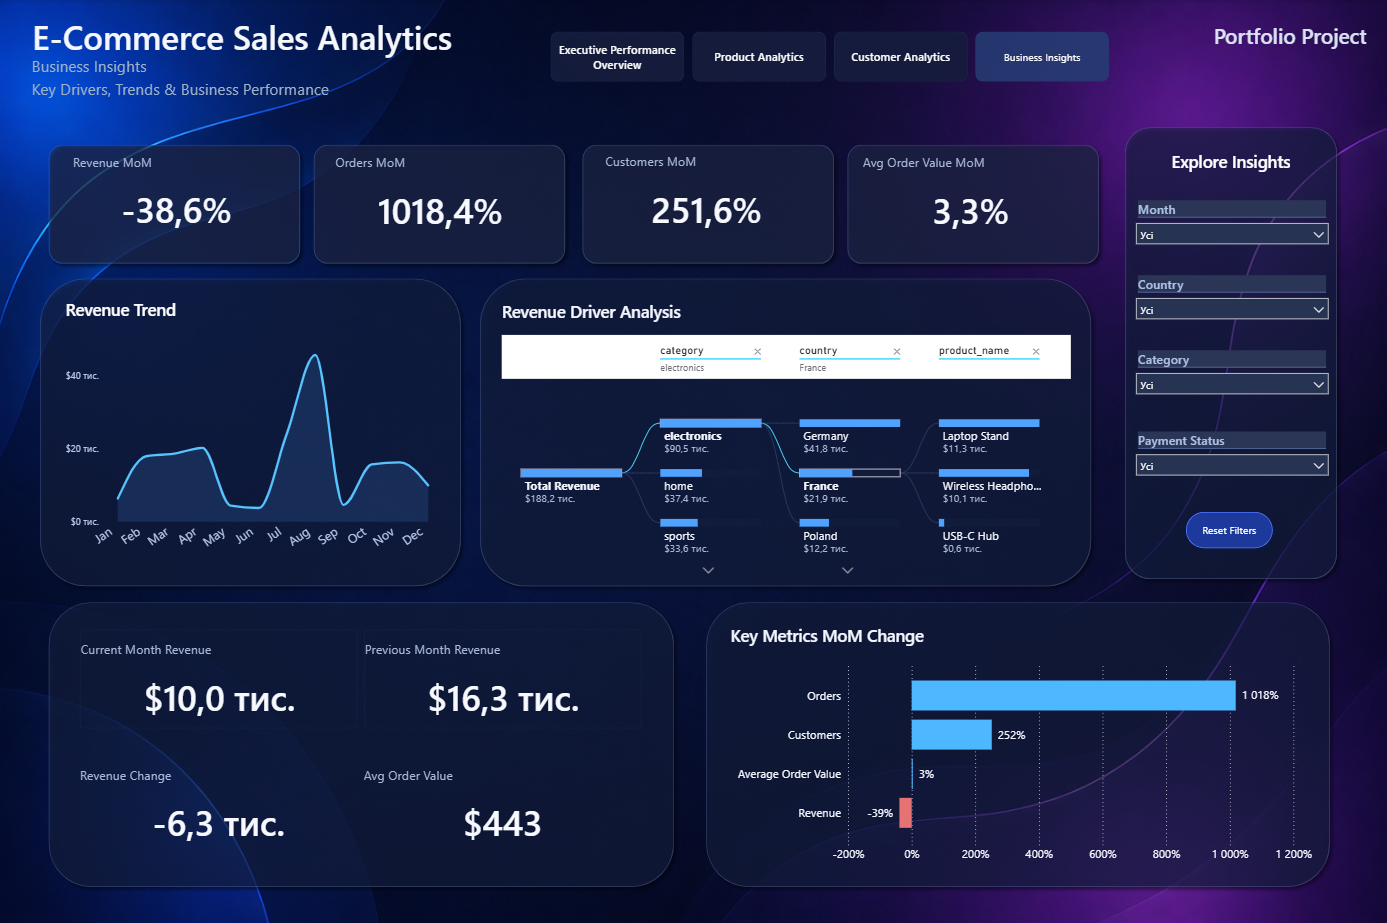

The dashboard page shown, as its layout file describes it:
{"tool":"powerbi","page":{"name":"Business Insights","canvas":[1800,1200],"ordinal":3},"visuals":[{"type":"shape","box":[21.7,10,946,76],"z":0},{"type":"shape","box":[745.2,180,342.9,171.7],"z":0,"group":"g1"},{"type":"shape","box":[56,770,826,386],"z":0,"group":"g2"},{"type":"shape","box":[906,770,824,386],"z":0,"group":"g7"},{"type":"shape","box":[21.7,56.7,323.3,60],"z":1000},{"type":"shape","box":[398.6,180,342.9,171.7],"z":1000,"group":"g1"},{"type":"shape","box":[1493.3,23.3,278.3,50],"z":2000},{"type":"shape","box":[1448,156,292,602],"z":2000,"group":"g3"},{"type":"group","id":"g1","title":"Група 1","box":[56,180,1374,172],"z":2000,"group":"g4"},{"type":"shape","box":[56,180,342.9,171.7],"z":2000,"group":"g1"},{"type":"shape","box":[46,352,561.9,415.8],"z":2000,"group":"g5"},{"type":"shape","box":[1087.8,180,342.9,171.7],"z":3000,"group":"g1"},{"type":"shape","box":[614,352,808,416],"z":3000,"group":"g6"},{"type":"group","id":"g2","title":"Група 9","box":[56,770,826,386],"z":3000},{"type":"group","id":"g3","title":"Група 2","box":[1448,156,292,602],"z":4000},{"type":"cardVisual","fields":{"Data":["_Measures.Revenue MoM %"]},"box":[67.3,184.8,326.3,132.5],"z":4000,"group":"g4"},{"type":"shape","box":[21.2,86.2,515.3,59.8],"z":5000},{"type":"group","id":"g4","title":"Група 3","box":[56,180,1374,172],"z":6000},{"type":"lineChart","title":"Revenue Trend","fields":{"Y":["_Measures.Total Revenue"],"Category":["Calendar.Month"]},"box":[83.8,385.3,493.3,345.6],"z":6000,"group":"g5"},{"type":"group","id":"g5","title":"Група 5","box":[46,352,561.9,415.8],"z":7000},{"type":"group","id":"g6","title":"Група 4","box":[614,352,808,416],"z":8000},{"type":"cardVisual","fields":{"Data":["_Measures.Business Insights Revenue","_Measures.Business Insights Previous Month Revenue"]},"box":[88.6,798.6,761.4,162.9],"z":9000},{"type":"slicer","fields":{"Values":["Calendar.Month"]},"box":[1460.5,253.8,269.1,83.3],"z":10000,"group":"g3"},{"type":"decompositionTreeVisual","title":"Revenue Driver Analysis","fields":{"Analyze":["_Measures.Total Revenue"],"ExplainBy":["products.category","customers.country","products.product_name"]},"box":[646.2,388.7,745.6,368.9],"z":10000,"group":"g6"},{"type":"cardVisual","fields":{"Data":["_Measures.Business Insights Revenue Change","_Measures.Average Order Value"]},"box":[88.6,961.4,761.4,162.9],"z":10000},{"type":"slicer","fields":{"Values":["customers.country"]},"box":[1460.5,352.1,269.1,86.3],"z":11000,"group":"g3"},{"type":"group","id":"g7","title":"Група 9","box":[906,770,824,386],"z":11000},{"type":"clusteredBarChart","title":"Key Metrics MoM Change","fields":{"Category":["Business Drivers.Driver"],"Y":["Business Drivers.Business Driver MoM %"]},"box":[941,806.7,761.7,318.3],"z":11001,"group":"g7"},{"type":"pageNavigator","box":[714,42,725.7,65.7],"z":12000},{"type":"cardVisual","fields":{"Data":["_Measures.Average Order Value MoM %"]},"box":[1088,185,337,133],"z":12000,"group":"g4"},{"type":"cardVisual","fields":{"Data":["_Measures.Orders MoM %"]},"box":[406,185,329,133],"z":13000,"group":"g4"},{"type":"slicer","fields":{"Values":["products.category"]},"box":[1460.5,448.5,269.1,84.3],"z":13000,"group":"g3"},{"type":"cardVisual","fields":{"Data":["_Measures.Customers MoM %"]},"box":[756,185,320,131],"z":15000,"group":"g4"},{"type":"slicer","fields":{"Values":["orders.payment_status"]},"box":[1460.5,552.8,269.1,84.3],"z":16000,"group":"g3"},{"type":"actionButton","box":[1529.2,655.4,126.2,60.9],"z":19000,"group":"g3"}]}

Visuals, with their boxes in screenshot pixels (x1, y1, x2, y2), scaled from the page's 1800x1200 canvas onto the 1387x923 screenshot:
shape: bbox=[17, 8, 746, 66]
shape: bbox=[574, 138, 838, 271]
shape: bbox=[43, 592, 680, 889]
shape: bbox=[698, 592, 1333, 889]
shape: bbox=[17, 44, 266, 90]
shape: bbox=[307, 138, 571, 271]
shape: bbox=[1151, 18, 1365, 56]
shape: bbox=[1116, 120, 1341, 583]
"Група 1" group: bbox=[43, 138, 1102, 271]
shape: bbox=[43, 138, 307, 271]
shape: bbox=[35, 271, 468, 591]
shape: bbox=[838, 138, 1102, 271]
shape: bbox=[473, 271, 1096, 591]
"Група 9" group: bbox=[43, 592, 680, 889]
"Група 2" group: bbox=[1116, 120, 1341, 583]
cardVisual - _Measures.Revenue MoM %: bbox=[52, 142, 303, 244]
shape: bbox=[16, 66, 413, 112]
"Група 3" group: bbox=[43, 138, 1102, 271]
"Revenue Trend" lineChart: bbox=[65, 296, 445, 562]
"Група 5" group: bbox=[35, 271, 468, 591]
"Група 4" group: bbox=[473, 271, 1096, 591]
cardVisual - _Measures.Business Insights Revenue x _Measures.Business Insights Previous Month Revenue: bbox=[68, 614, 655, 740]
slicer - Calendar.Month: bbox=[1125, 195, 1333, 259]
"Revenue Driver Analysis" decompositionTreeVisual: bbox=[498, 299, 1072, 583]
cardVisual - _Measures.Business Insights Revenue Change x _Measures.Average Order Value: bbox=[68, 739, 655, 865]
slicer - customers.country: bbox=[1125, 271, 1333, 337]
"Група 9" group: bbox=[698, 592, 1333, 889]
"Key Metrics MoM Change" clusteredBarChart: bbox=[725, 620, 1312, 865]
pageNavigator: bbox=[550, 32, 1109, 83]
cardVisual - _Measures.Average Order Value MoM %: bbox=[838, 142, 1098, 245]
cardVisual - _Measures.Orders MoM %: bbox=[313, 142, 566, 245]
slicer - products.category: bbox=[1125, 345, 1333, 410]
cardVisual - _Measures.Customers MoM %: bbox=[583, 142, 829, 243]
slicer - orders.payment_status: bbox=[1125, 425, 1333, 490]
actionButton: bbox=[1178, 504, 1276, 551]
